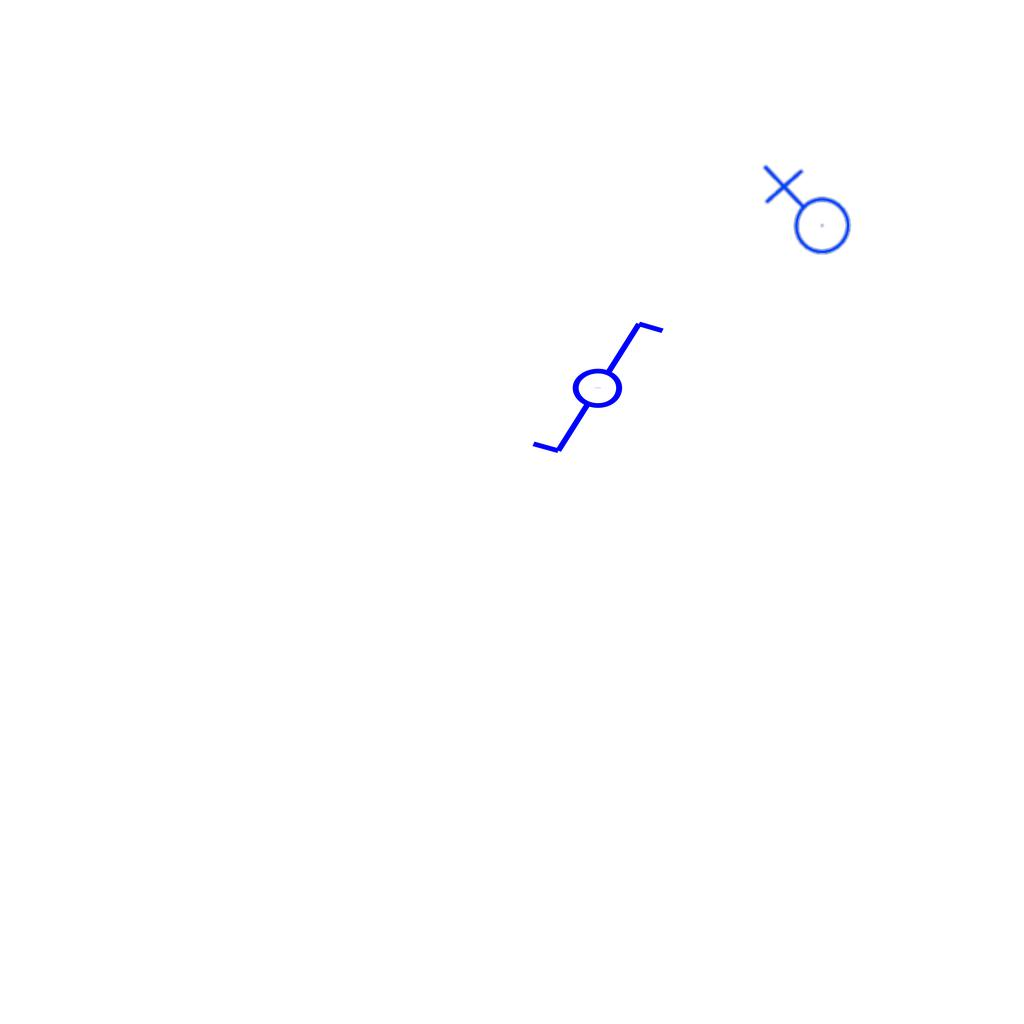Elektroanschluss_allgemein_230V_Geraeteanschlussdose_230V: (758, 164, 852, 263)
Wechselschalter: (511, 314, 668, 458)
